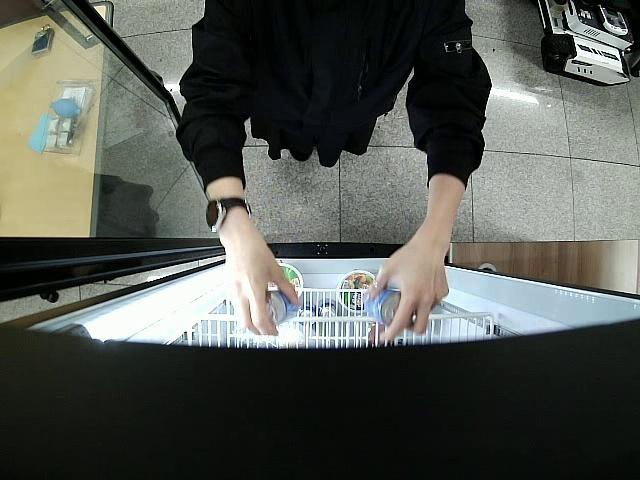15_letsbe: (365, 289, 402, 327), (264, 290, 298, 326)
